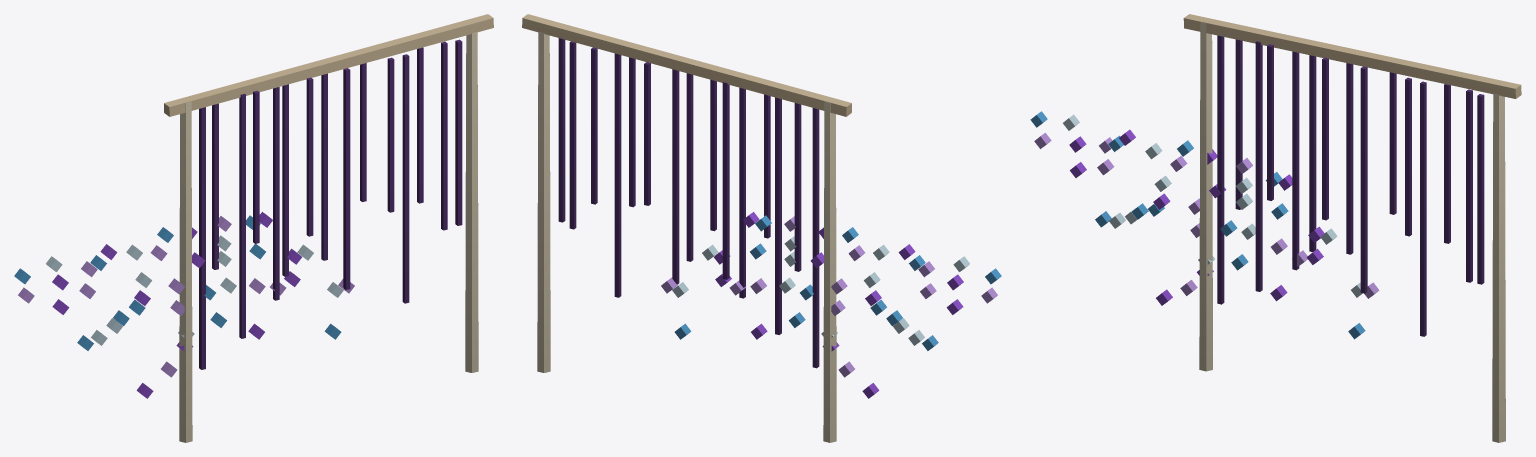
Rendered from vine_curtain.glb.
The picture shows the model from 3 angles, left to right: view 1: azimuth 30°, elevation 25°; view 2: azimuth 150°, elevation 25°; view 3: azimuth 330°, elevation 25°; orthographic projection. The views are drawn at different scales.
Visible parts, largest first — view 1: vine_curtain; view 2: vine_curtain; view 3: vine_curtain.
Part boxes in pixels (bbox=[...]): vine_curtain: bbox=[14, 14, 493, 442]; vine_curtain: bbox=[522, 14, 1001, 442]; vine_curtain: bbox=[1030, 14, 1521, 442].
Size of the model in its own units: 4.98 by 3.5 by 0.165.
